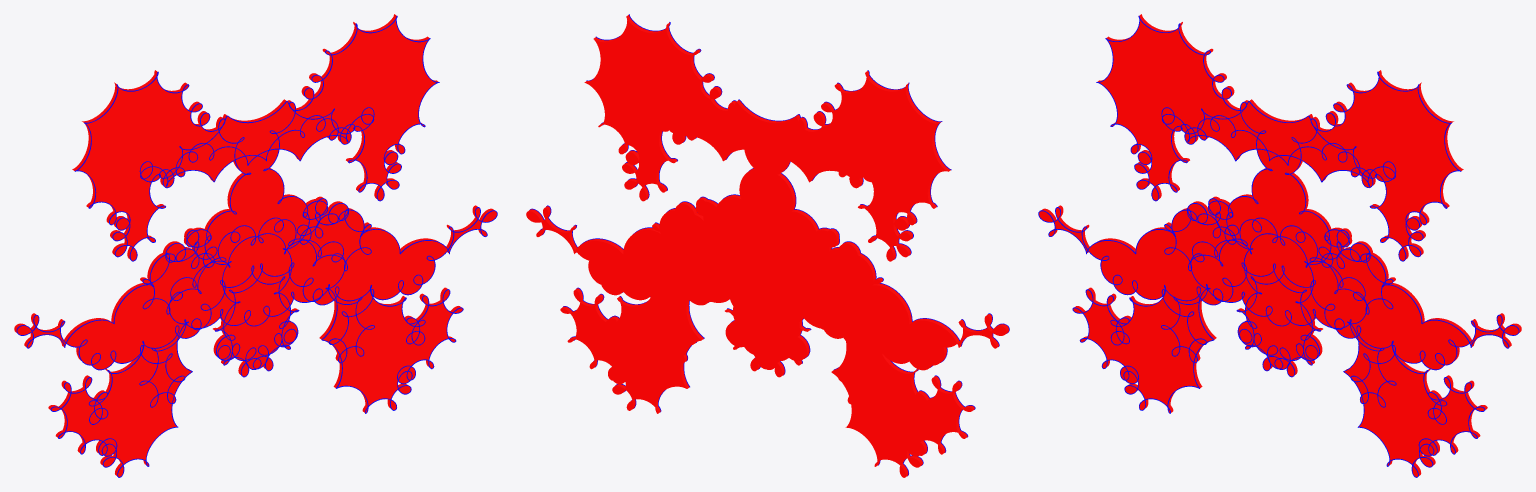
The picture shows the model from 3 angles, left to right: view 1: azimuth 30°, elevation 25°; view 2: azimuth 150°, elevation 25°; view 3: azimuth 330°, elevation 25°; orthographic projection.
Size of the model in its own units: 1 by 0.7893 by 0.0109.
